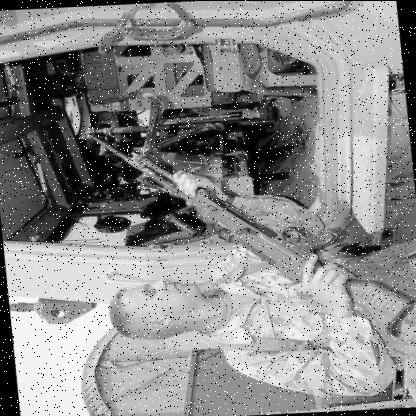rifle: (80, 110, 400, 290)
